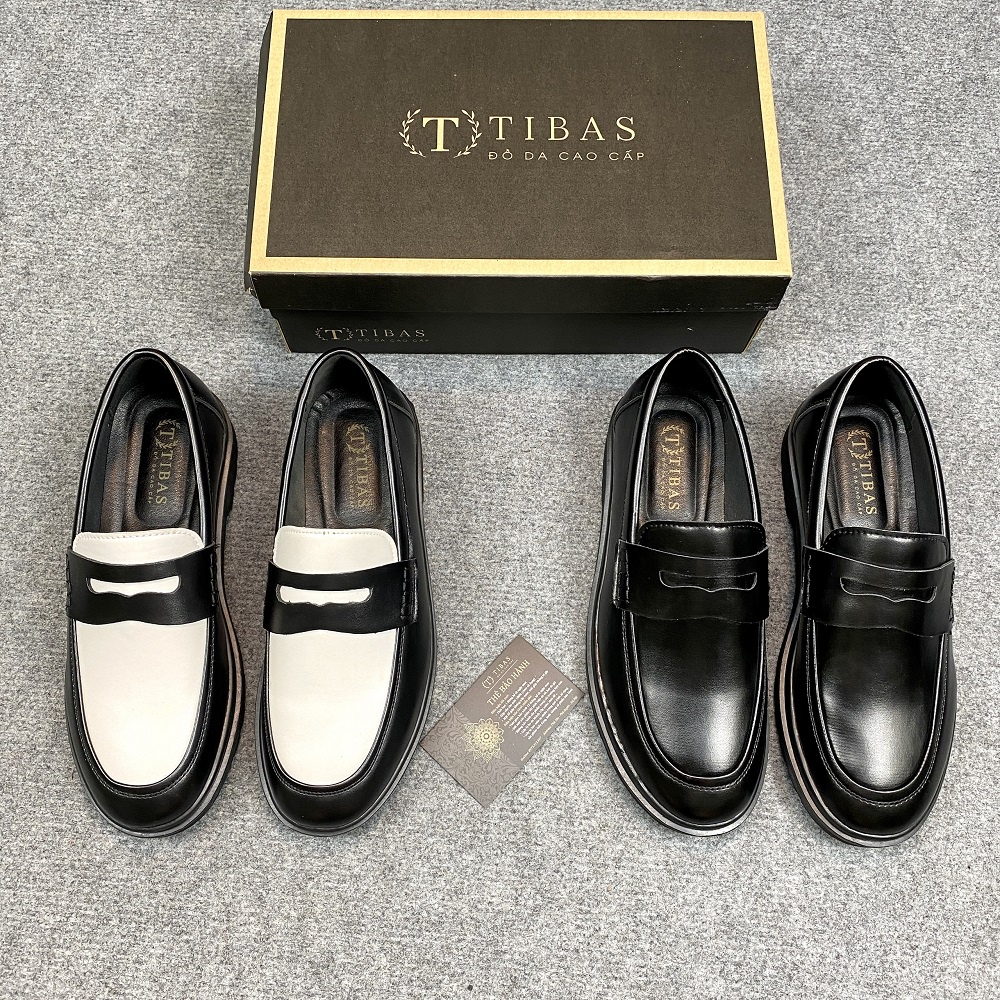loafers: (771, 356, 958, 846), (59, 349, 245, 841), (254, 347, 438, 839), (587, 349, 768, 838)
